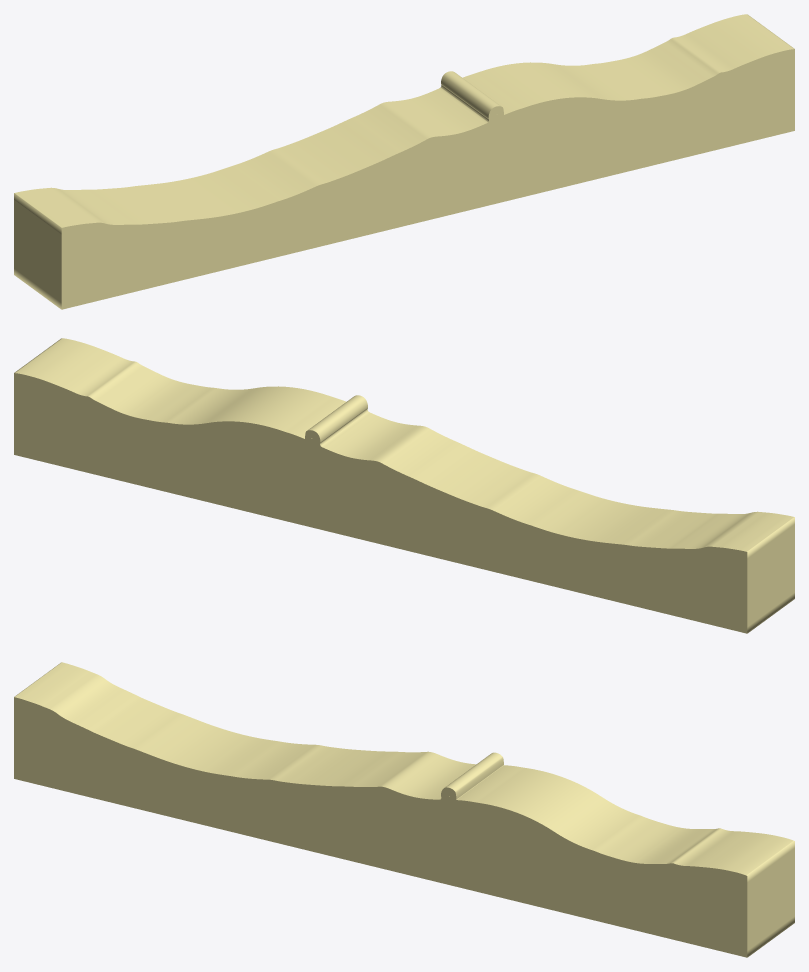
3 renders of one model, top to bottom at view 1: azimuth 30°, elevation 25°; view 2: azimuth 150°, elevation 25°; view 3: azimuth 330°, elevation 25°, orthographic.
Parts seen in each view (by area): view 1: Curve; view 2: Curve; view 3: Curve.
Boxes of the visible parts, left/top/right/bottom form: Curve: left=14, top=14, right=794, bottom=309; Curve: left=14, top=338, right=794, bottom=633; Curve: left=14, top=662, right=794, bottom=957.
Size of the model in its own units: 1499 by 190 by 169.
